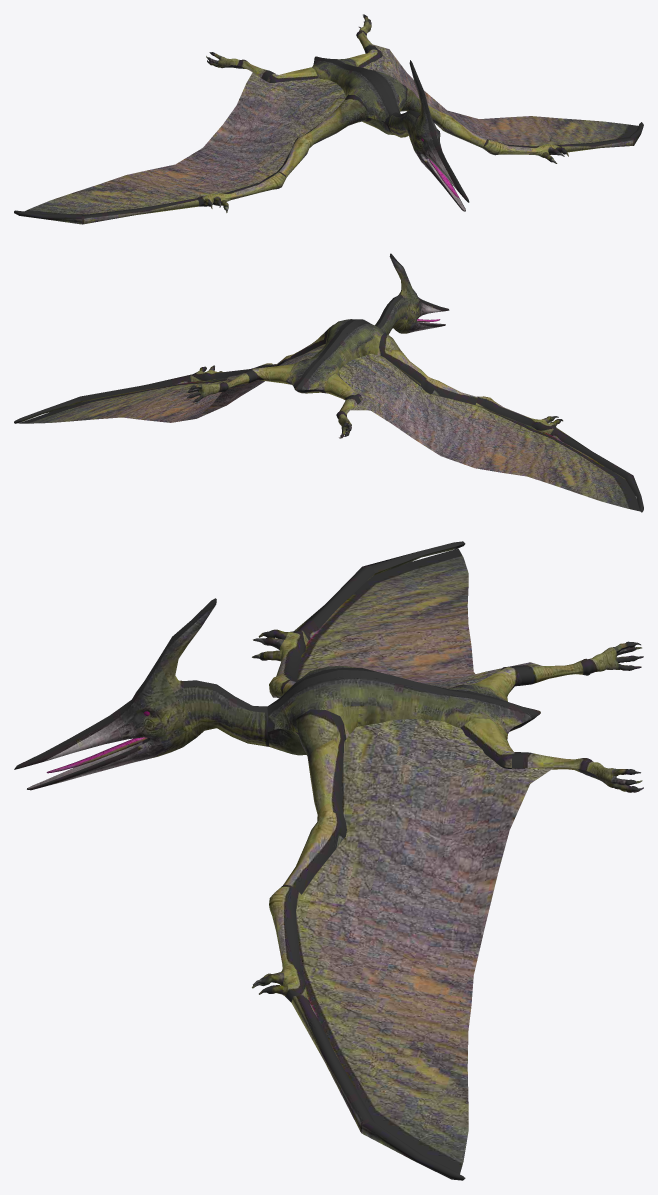
The model's file is Pterodactilo.obj.
3 renders of one model, top to bottom at view 1: azimuth 30°, elevation 25°; view 2: azimuth 150°, elevation 25°; view 3: azimuth 270°, elevation 25°, orthographic. The views are drawn at different scales.
Visible parts, largest first — view 1: Mesh1 default_object c341_5818_0165_bf49_1 Model, Mesh5 default_object c341_5818_0165_bf49_1 Model, Mesh6 default_object c341_5818_0165_bf49_1 Model; view 2: Mesh5 default_object c341_5818_0165_bf49_1 Model, Mesh1 default_object c341_5818_0165_bf49_1 Model, Mesh6 default_object c341_5818_0165_bf49_1 Model; view 3: Mesh6 default_object c341_5818_0165_bf49_1 Model, Mesh1 default_object c341_5818_0165_bf49_1 Model, Mesh5 default_object c341_5818_0165_bf49_1 Model.
Part boxes in pixels (left/top/right/bottom): Mesh1 default_object c341_5818_0165_bf49_1 Model: left=14, top=14, right=643, bottom=224; Mesh5 default_object c341_5818_0165_bf49_1 Model: left=24, top=72, right=346, bottom=215; Mesh6 default_object c341_5818_0165_bf49_1 Model: left=363, top=44, right=638, bottom=146; Mesh5 default_object c341_5818_0165_bf49_1 Model: left=339, top=353, right=640, bottom=511; Mesh1 default_object c341_5818_0165_bf49_1 Model: left=14, top=253, right=643, bottom=512; Mesh6 default_object c341_5818_0165_bf49_1 Model: left=18, top=344, right=325, bottom=423; Mesh6 default_object c341_5818_0165_bf49_1 Model: left=296, top=719, right=553, bottom=1173; Mesh1 default_object c341_5818_0165_bf49_1 Model: left=14, top=541, right=643, bottom=1180; Mesh5 default_object c341_5818_0165_bf49_1 Model: left=296, top=548, right=541, bottom=688.
Bounding box in the file's own units: 4263 × 1243 × 2158.
1 material, 1 textured.
